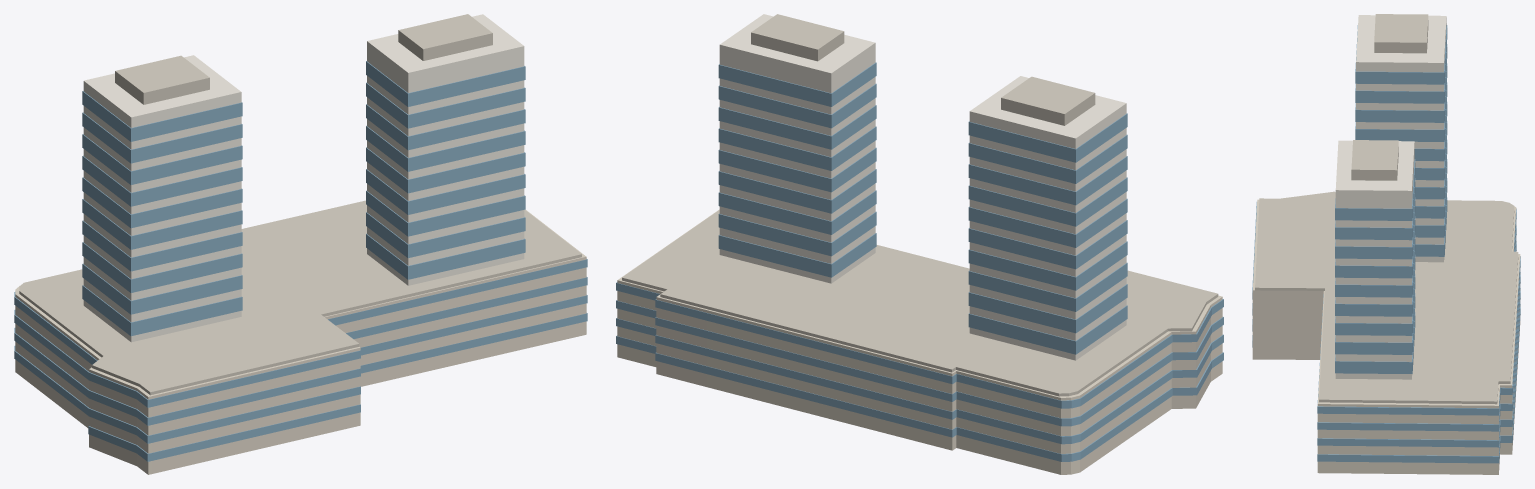
Rendered from junction_city.glb.
The picture shows the model from 3 angles, left to right: view 1: azimuth 30°, elevation 25°; view 2: azimuth 150°, elevation 25°; view 3: azimuth 270°, elevation 25°; orthographic projection. The views are drawn at different scales.
Visible parts, largest first — view 1: part; view 2: part; view 3: part.
Boxes of the visible parts, bbox=[...] form: part: bbox=[14, 14, 587, 474]; part: bbox=[616, 14, 1223, 474]; part: bbox=[1252, 14, 1520, 474].
Size of the model in its own units: 173 by 106 by 91.57.
